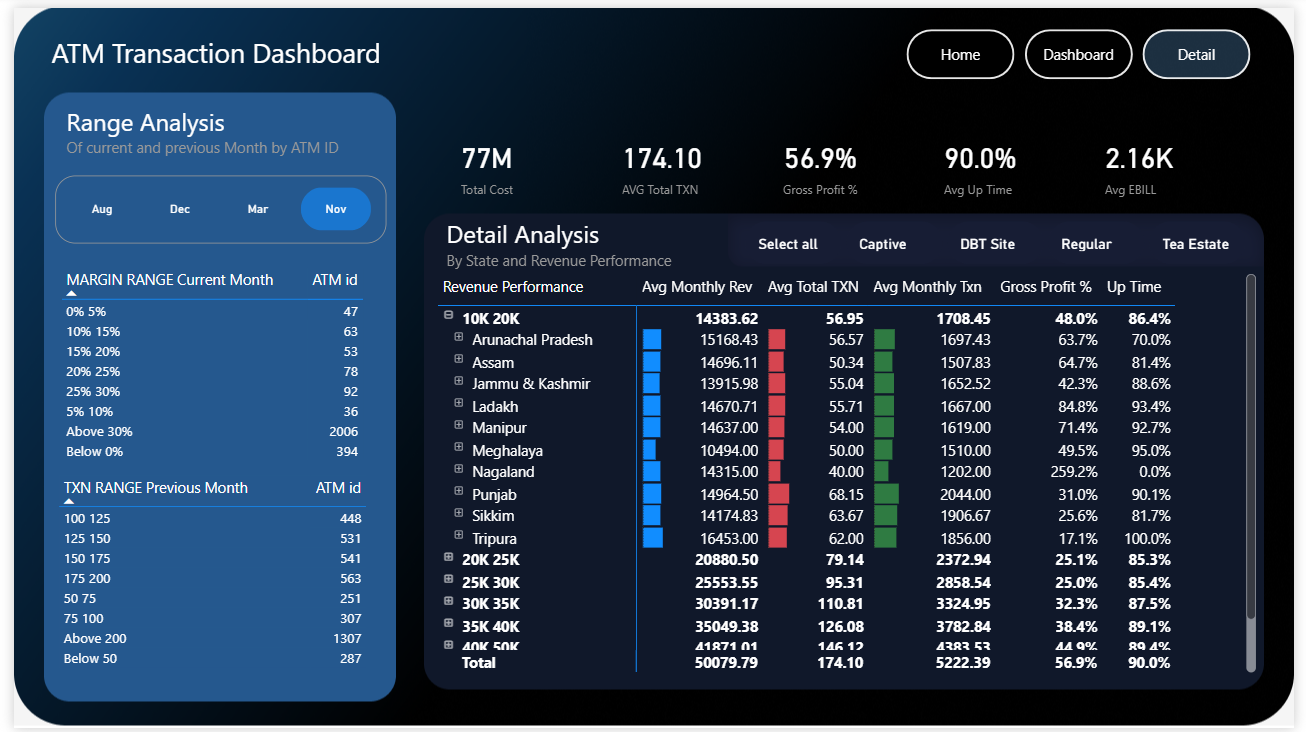

What the dashboard file says about the page in this screenshot:
{"tool":"powerbi","page":{"name":"Detail ","canvas":[1280,720],"ordinal":2},"visuals":[{"type":"advancedSlicerVisual","fields":{"Values":["DataSet.Short_Month"]},"box":[41.7,167.9,331,67.9],"z":0},{"type":"textbox","box":[32.1,21.4,340,46],"z":1000},{"type":"textbox","box":[47.5,92.5,317.5,75],"z":2000},{"type":"tableEx","fields":{"Values":["DataSet.MARGIN RANGE Current Month","DataSet.ATM id"]},"box":[40.7,254.7,330.2,208.1],"z":3000},{"type":"tableEx","fields":{"Values":["DataSet.TXN RANGE Previous Month","DataSet.ATM id"]},"box":[38.4,462.8,327.9,223.3],"z":4000},{"type":"cardVisual","fields":{"Data":["Sum(DataSet. Total Cost  )","Avg(DataSet.AVG Total TXN)","DataSet.Gross Profit Percentage","Avg(DataSet.Up Time)","Avg(DataSet. EBILL )"]},"box":[410,114.4,827.8,93.3],"z":5000},{"type":"textbox","box":[427.9,208.1,244.2,53.5],"z":6000},{"type":"pivotTable","fields":{"Rows":["DataSet.Revenue Performance","DataSet.STATE","DataSet.ATM id"],"Values":["Avg(DataSet.Monthly Rev)","Avg(DataSet.AVG Total TXN)","Avg(DataSet.Monthly Txn)","DataSet.Gross Profit Percentage","Avg(DataSet.Up Time)"]},"box":[418.6,261.6,827.9,408.1],"z":7000},{"type":"pageNavigator","box":[892.9,21.4,344,50],"z":8000},{"type":"advancedSlicerVisual","fields":{"Values":["DataSet.ATM TYPE"]},"box":[726.7,209.3,510.5,52.3],"z":8001}]}

Visuals, with their boxes in screenshot pixels (x1, y1, x2, y2), scaled from the page's 1280x720 canvas onto the 1306x732 screenshot:
advancedSlicerVisual - DataSet.Short_Month: region(43, 171, 380, 240)
textbox: region(33, 22, 380, 69)
textbox: region(48, 94, 372, 170)
tableEx - DataSet.MARGIN RANGE Current Month x DataSet.ATM id: region(42, 259, 378, 471)
tableEx - DataSet.TXN RANGE Previous Month x DataSet.ATM id: region(39, 471, 374, 698)
cardVisual - Sum(DataSet. Total Cost  ) x Avg(DataSet.AVG Total TXN): region(418, 116, 1263, 211)
textbox: region(437, 212, 686, 266)
pivotTable - DataSet.Revenue Performance x DataSet.STATE: region(427, 266, 1272, 681)
pageNavigator: region(911, 22, 1262, 73)
advancedSlicerVisual - DataSet.ATM TYPE: region(741, 213, 1262, 266)
